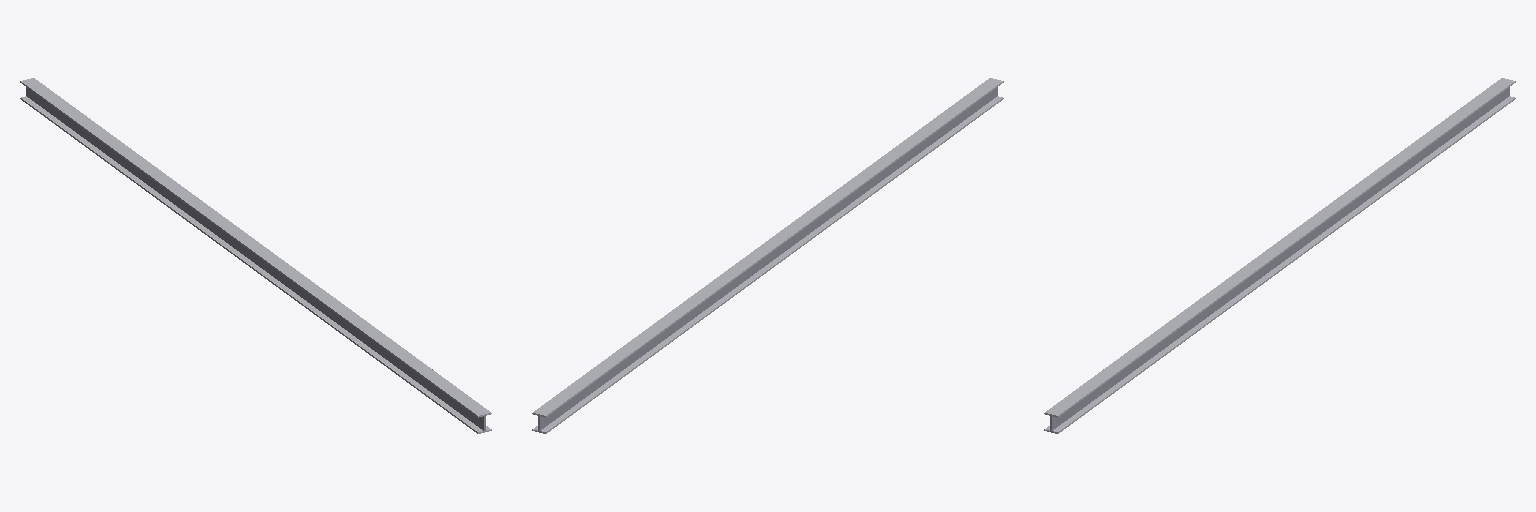
The robot description file, URDF, robot "h_bar":
<?xml version="1.0" ?>
<!-- =================================================================================== -->
<!-- |    This document was autogenerated by xacro from h_bar.xacro                    | -->
<!-- |    EDITING THIS FILE BY HAND IS NOT RECOMMENDED                                 | -->
<!-- =================================================================================== -->
<robot name="h_bar">
  <link name="world"/>
  <!-- Bottom leg (aligned with z-axis after rotation, below origin) -->
  <link name="hbar_bottom_leg">
    <visual>
      <origin rpy="0 1.57079633 0" xyz="0 0 0"/>
      <geometry>
        <!-- thickness x, profile width y, leg length along local z -->
        <box size="0.01 5.0 0.085"/>
      </geometry>
      <material name="hbar_material_bottom">
        <!-- Brushed steel-like gray -->
        <color rgba="0.75 0.75 0.78 1.0"/>
      </material>
    </visual>
    <collision>
      <origin rpy="0 1.57079633 0" xyz="0 0 0"/>
      <geometry>
        <box size="0.01 5.0 0.085"/>
      </geometry>
    </collision>
    <inertial>
      <origin rpy="0 0 0" xyz="0 0 0"/>
      <mass value="0.3333333333333333"/>
      <inertia ixx="0.6946451388888888" ixy="0.0" ixz="0.0" iyy="0.00020347222222222227" iyz="0.0" izz="0.6944472222222222"/>
    </inertial>
  </link>
  <!-- Top leg (aligned with z-axis after rotation, above origin) -->
  <link name="hbar_top_leg">
    <visual>
      <origin rpy="0 1.57079633 0" xyz="0 0 0"/>
      <geometry>
        <box size="0.01 5.0 0.085"/>
      </geometry>
      <material name="hbar_material_top">
        <!-- Brushed steel-like gray -->
        <color rgba="0.75 0.75 0.78 1.0"/>
      </material>
    </visual>
    <collision>
      <origin rpy="0 1.57079633 0" xyz="0 0 0"/>
      <geometry>
        <box size="0.01 5.0 0.085"/>
      </geometry>
    </collision>
    <inertial>
      <origin rpy="0 0 0" xyz="0 0 0"/>
      <mass value="0.3333333333333333"/>
      <inertia ixx="0.6946451388888888" ixy="0.0" ixz="0.0" iyy="0.00020347222222222227" iyz="0.0" izz="0.6944472222222222"/>
    </inertial>
  </link>
  <!-- Crossbar: vertical (aligned with z-axis) at the origin -->
  <link name="hbar_crossbar">
    <visual>
      <!-- Thickness in x,y, length in z -->
      <origin rpy="0 0 0" xyz="0 0 0"/>
      <geometry>
        <box size="0.01 5.0 0.1"/>
      </geometry>
      <material name="hbar_material_cross">
        <!-- Slightly darker steel for visual contrast -->
        <color rgba="0.65 0.65 0.7 1.0"/>
      </material>
    </visual>
    <collision>
      <origin rpy="0 0 0" xyz="0 0 0"/>
      <geometry>
        <box size="0.01 5.0 0.1"/>
      </geometry>
    </collision>
    <inertial>
      <origin rpy="0 0 0" xyz="0 0 0"/>
      <mass value="0.3333333333333333"/>
      <inertia ixx="0.6947222222222222" ixy="0.0" ixz="0.0" iyy="0.0002805555555555556" iyz="0.0" izz="0.6944472222222222"/>
    </inertial>
  </link>
  <!-- Fix crossbar to world; its center is at the macro pose -->
  <joint name="hbar_cross_fix" type="fixed">
    <parent link="world"/>
    <child link="hbar_crossbar"/>
    <origin rpy="0 0 0" xyz="0 0 0"/>
  </joint>
  <!-- Top leg: translated +L_leg/2 in x and +L_span/2 in z relative to crossbar -->
  <joint name="hbar_top_fix" type="fixed">
    <parent link="hbar_crossbar"/>
    <child link="hbar_top_leg"/>
    <origin rpy="0 0.0 0" xyz="0 0 0.05"/>
  </joint>
  <!-- Bottom leg: translated +L_leg/2 in x and -L_span/2 in z relative to crossbar -->
  <joint name="hbar_bottom_fix" type="fixed">
    <parent link="hbar_crossbar"/>
    <child link="hbar_bottom_leg"/>
    <origin rpy="0 0 0" xyz="0 0 -0.05"/>
  </joint>
</robot>

--- Render facts (derived) ---
Views: 3 orthographic renders of the robot side by side, from view 1: azimuth 30°, elevation 25°; view 2: azimuth 150°, elevation 25°; view 3: azimuth 330°, elevation 25°.
Robot: h_bar — 4 links, 3 joints (3 fixed); root link world; default pose: all joints at 0.
Links seen in each view (by area): view 1: hbar_top_leg, hbar_crossbar, hbar_bottom_leg; view 2: hbar_top_leg, hbar_crossbar, hbar_bottom_leg; view 3: hbar_top_leg, hbar_crossbar, hbar_bottom_leg.
Link boxes in pixels (bbox=[...]): hbar_top_leg: bbox=[20, 78, 491, 417]; hbar_crossbar: bbox=[26, 87, 485, 431]; hbar_bottom_leg: bbox=[20, 96, 491, 433]; hbar_top_leg: bbox=[532, 78, 1003, 417]; hbar_crossbar: bbox=[538, 87, 997, 431]; hbar_bottom_leg: bbox=[532, 96, 1003, 433]; hbar_top_leg: bbox=[1044, 78, 1515, 417]; hbar_crossbar: bbox=[1050, 87, 1509, 431]; hbar_bottom_leg: bbox=[1044, 96, 1515, 433].
Bounding box of the posed robot: 0.085 × 5 × 0.11 m (x, y, z).
Geometry: primitives only (box / cylinder / sphere), no mesh files.
